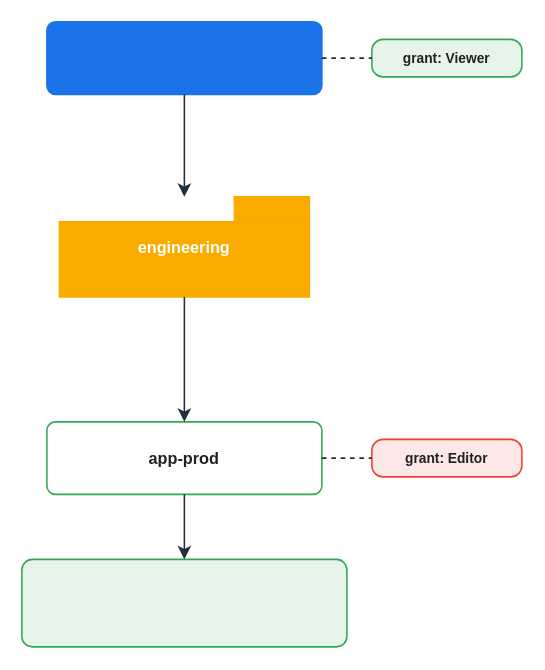
Some shapes in this 545 by 670 pixel diagram are drawn without their labels. The centre of each missing label's shape, as x and y in pixels:
Effective on app-prod= Viewer + Editor: point 183,602
Organization: point 184,57
